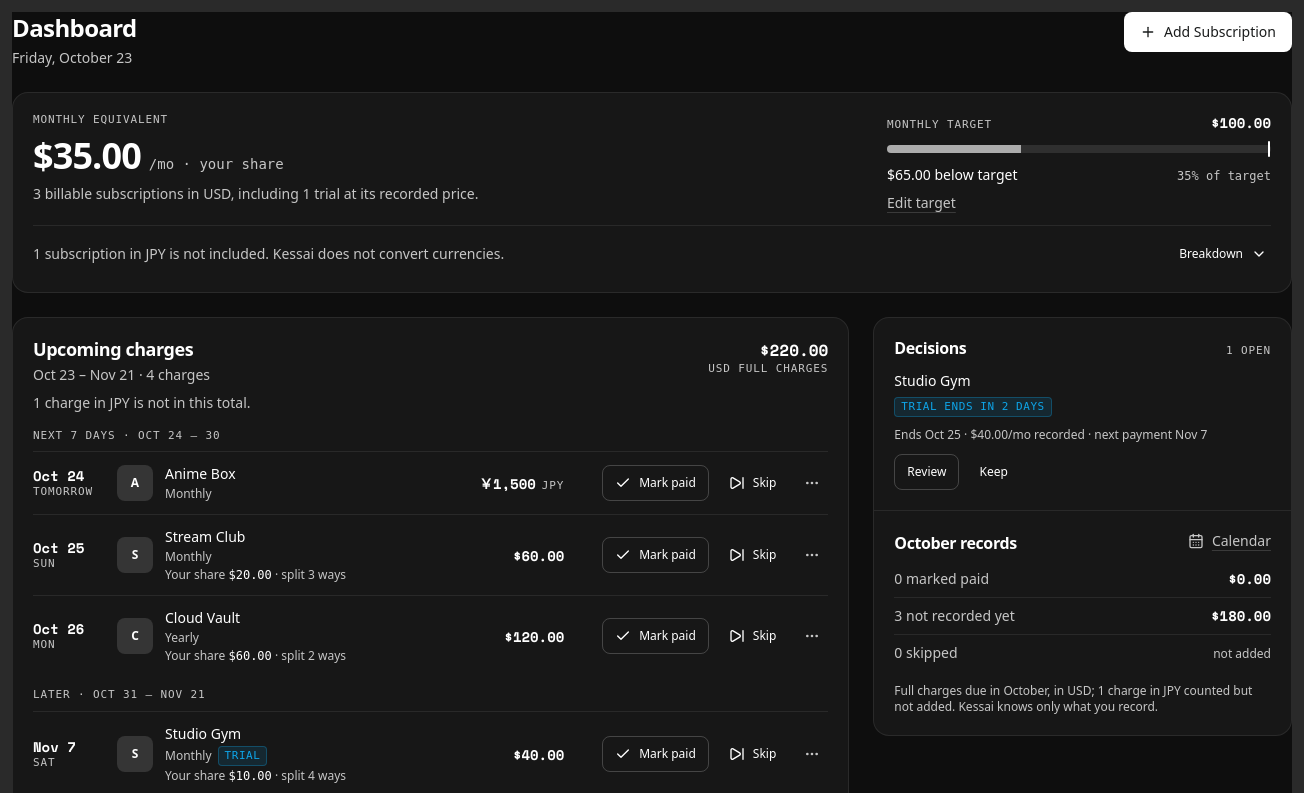
Test: Dashboard commitment summary › folds the yearly equivalent and categories behind Breakdown
expect the text "Yearly equivalent" is not shown: met
What coordinates should you click on to do the following:
click the button "Breakdown"
I would click on:
 (1223, 254)
Its box is left=1167, top=236, right=1279, bottom=272.
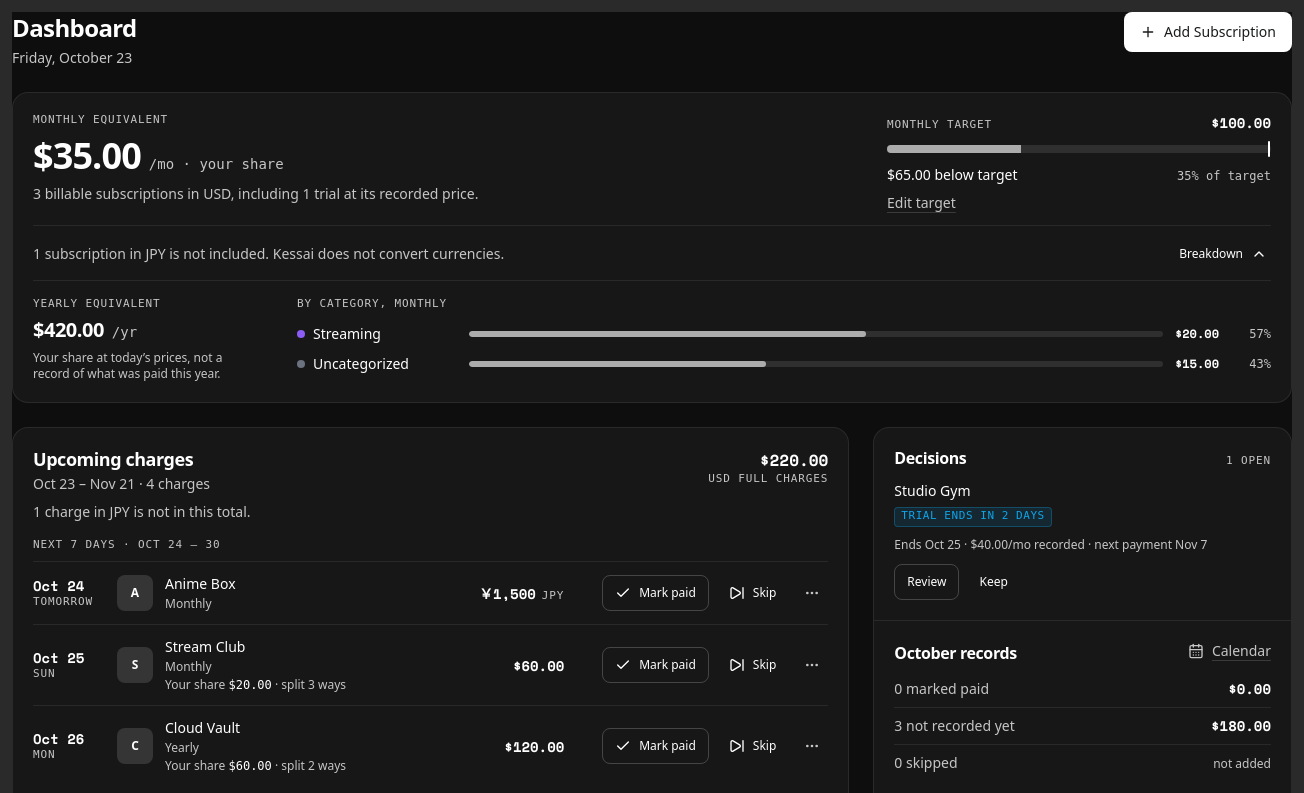
expect the heading "Yearly equivalent" is shown: met, box left=33, top=297, right=160, bottom=310
expect the text "$420.00" is shown: met, box left=33, top=320, right=104, bottom=340
expect the text "$20.00" in the row of "Streaming" is shown: met, box left=1175, top=325, right=1219, bottom=342
